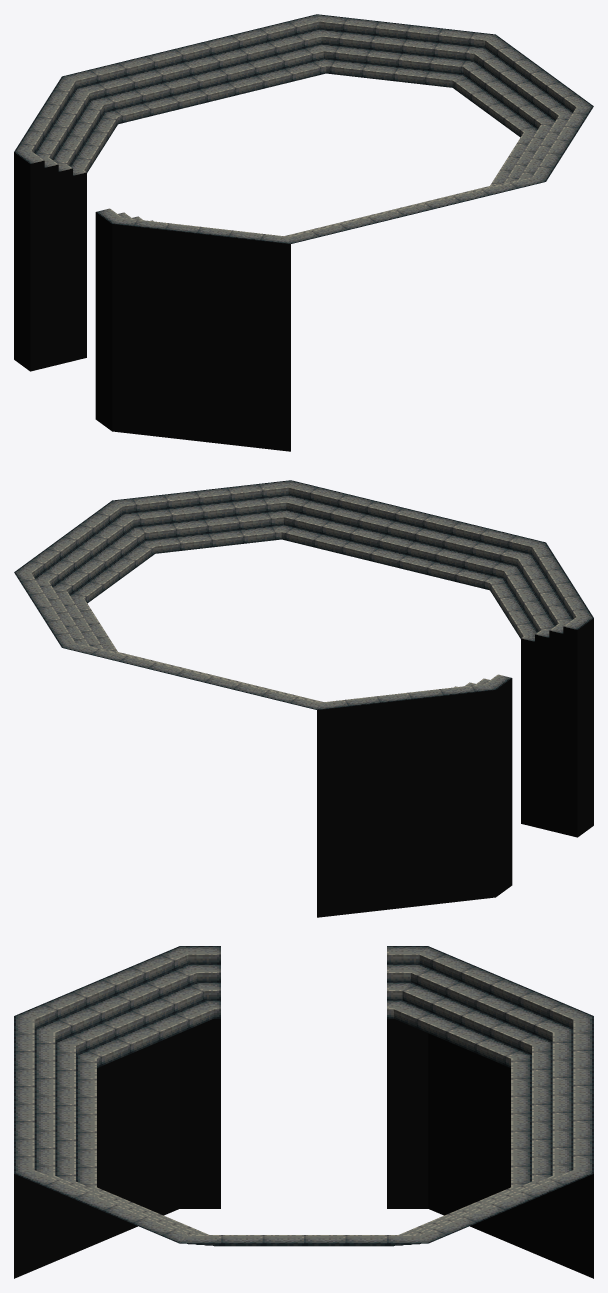
File: EnvMdrMD_Daiseidou_A_Entrance_Hall_A.FBX
3 views of the same model, one above another, from view 1: azimuth 30°, elevation 25°; view 2: azimuth 150°, elevation 25°; view 3: azimuth 270°, elevation 25° (orthographic). The views are drawn at different scales.
Visible parts, largest first — view 1: EnvMdrMD_Daiseidou_A_Entrance_Hall_A; view 2: EnvMdrMD_Daiseidou_A_Entrance_Hall_A; view 3: EnvMdrMD_Daiseidou_A_Entrance_Hall_A.
Part boxes in pixels (x1,y1,x2,y2): EnvMdrMD_Daiseidou_A_Entrance_Hall_A: [14, 14, 593, 451]; EnvMdrMD_Daiseidou_A_Entrance_Hall_A: [14, 480, 593, 917]; EnvMdrMD_Daiseidou_A_Entrance_Hall_A: [14, 946, 593, 1278].
Bounding box in the file's own units: 1700 × 700 × 1400.
